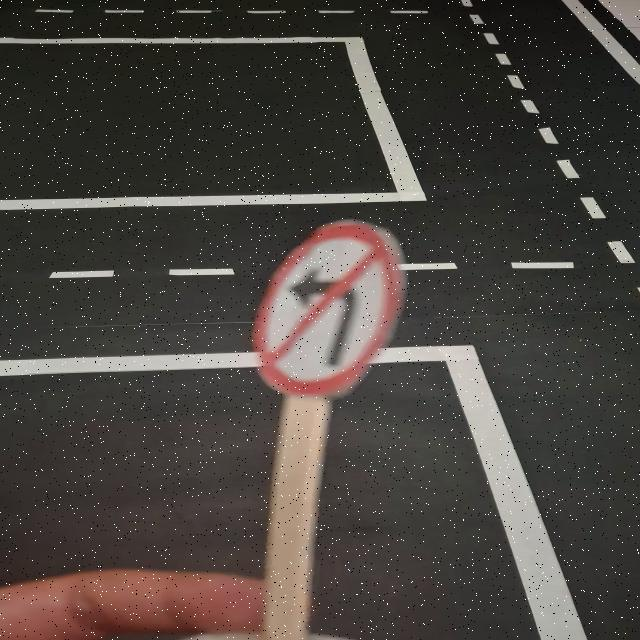Dilarang Belok Kiri: (252, 220, 404, 395)
